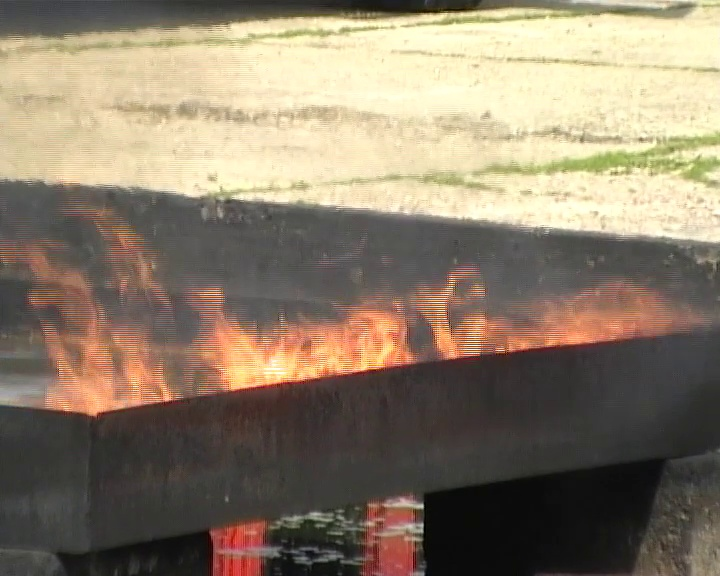fire: (20, 216, 167, 413), (411, 268, 678, 356), (192, 310, 404, 385)
